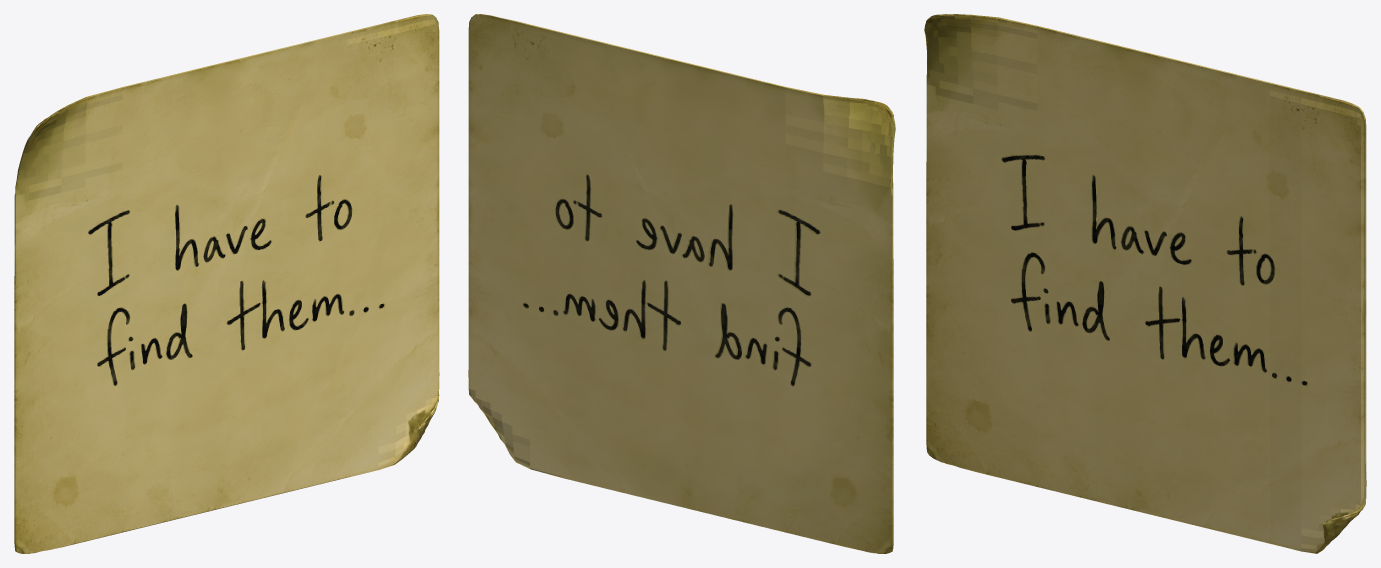
The model's file is Meshy_AI_I_have_to_find_them__0704205209_texture.fbx.
3 renders of one model, left to right at view 1: azimuth 30°, elevation 25°; view 2: azimuth 150°, elevation 25°; view 3: azimuth 330°, elevation 25°, orthographic. The views are drawn at different scales.
Visible parts, largest first — view 1: temp; view 2: temp; view 3: temp.
Boxes of the visible parts, x1=… form: temp: x1=14, y1=14, x2=439, y2=553; temp: x1=468, y1=14, x2=895, y2=553; temp: x1=924, y1=14, x2=1366, y2=553.
Size of the model in its own units: 190 by 190 by 9.
Materials: 1 (1 with a texture image).
